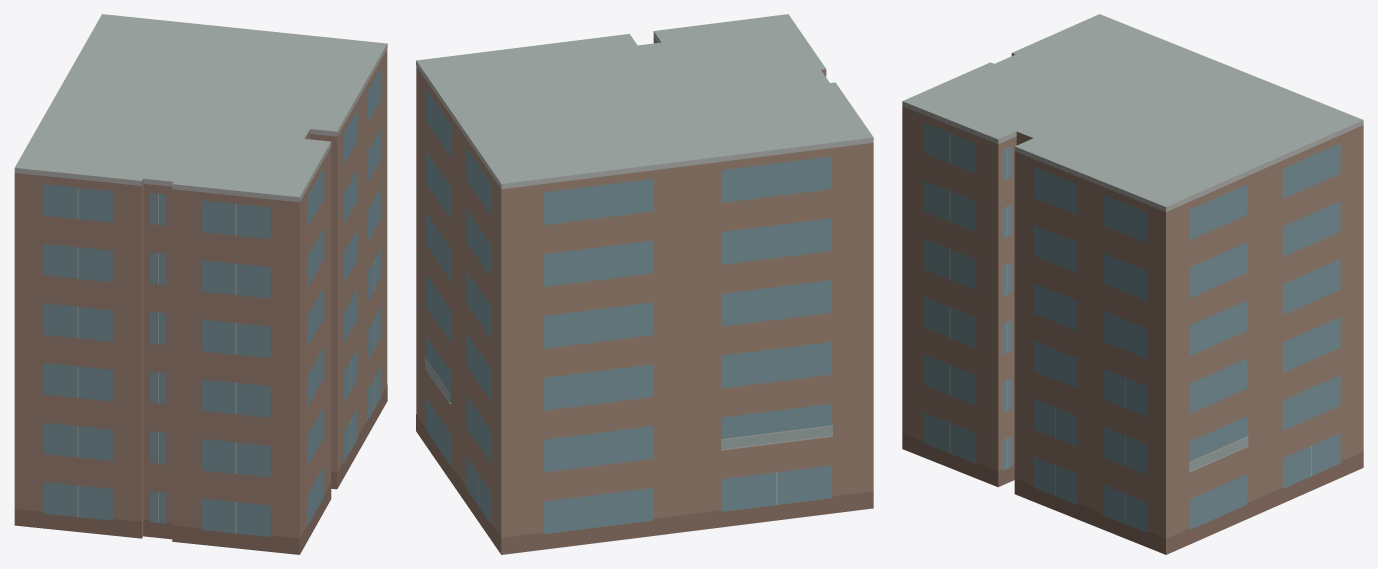
Rendered from survey-upis-32890119.glb.
The picture shows the model from 3 angles, left to right: view 1: azimuth 30°, elevation 25°; view 2: azimuth 150°, elevation 25°; view 3: azimuth 270°, elevation 25°; orthographic projection. The views are drawn at different scales.
Visible parts, largest first — view 1: survey-upis-32890119.tmp; view 2: survey-upis-32890119.tmp; view 3: survey-upis-32890119.tmp.
Boxes of the visible parts, left/top/right/bottom form: survey-upis-32890119.tmp: left=14, top=14, right=387, bottom=554; survey-upis-32890119.tmp: left=416, top=14, right=873, bottom=554; survey-upis-32890119.tmp: left=902, top=14, right=1363, bottom=554.
Size of the model in its own units: 20.62 by 17.3 by 20.81.
